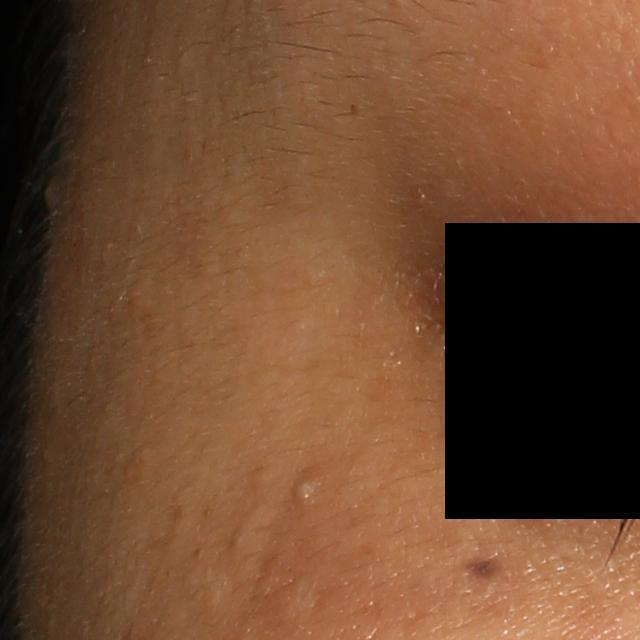comedo: (290, 477, 318, 499)
nevus: (453, 550, 511, 586)
